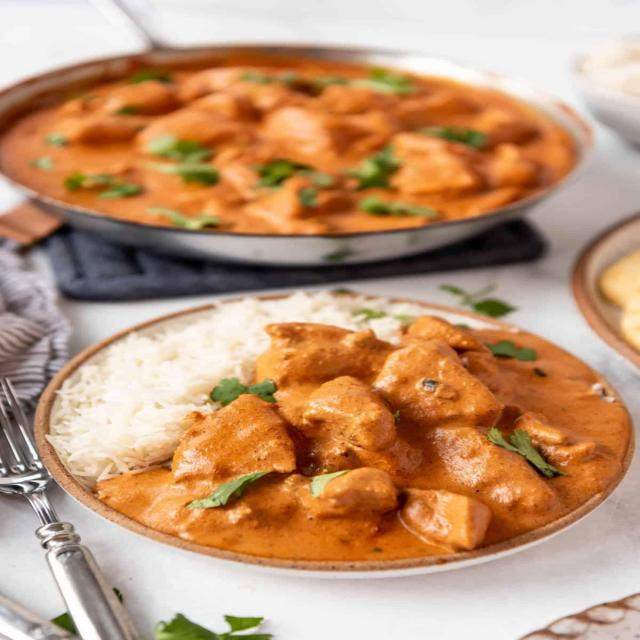chicken: (32, 63, 549, 222)
